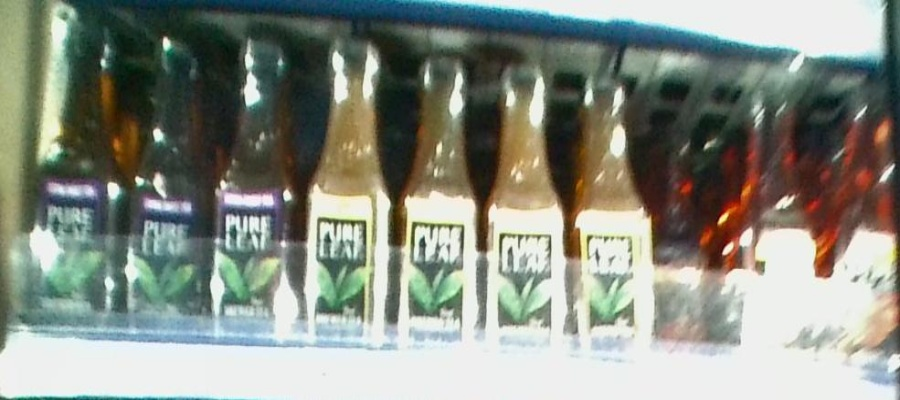bottle: (28, 6, 124, 334), (302, 33, 392, 344), (396, 40, 483, 345), (213, 28, 298, 337), (129, 31, 210, 326), (487, 61, 571, 343), (574, 70, 658, 346), (737, 93, 820, 363), (830, 91, 900, 375), (662, 136, 714, 344)
